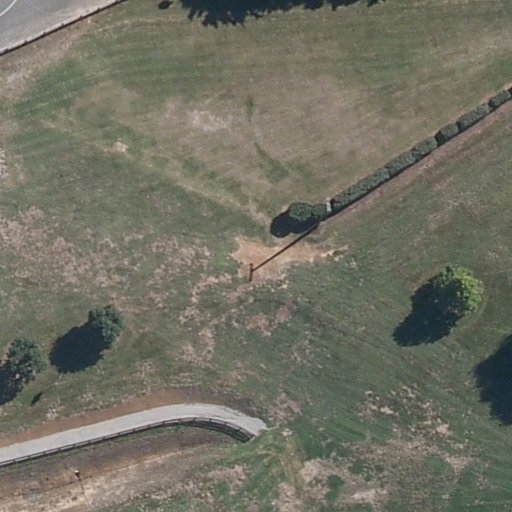DT: (325, 195, 333, 214)
